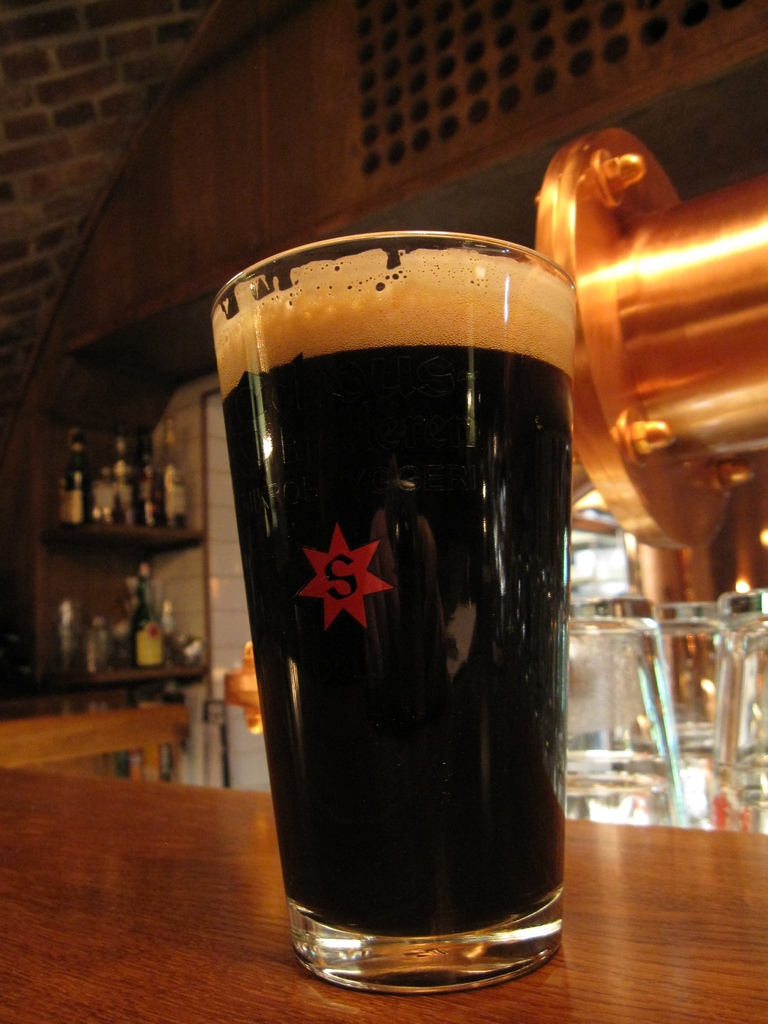Beer: (207, 225, 579, 995)
